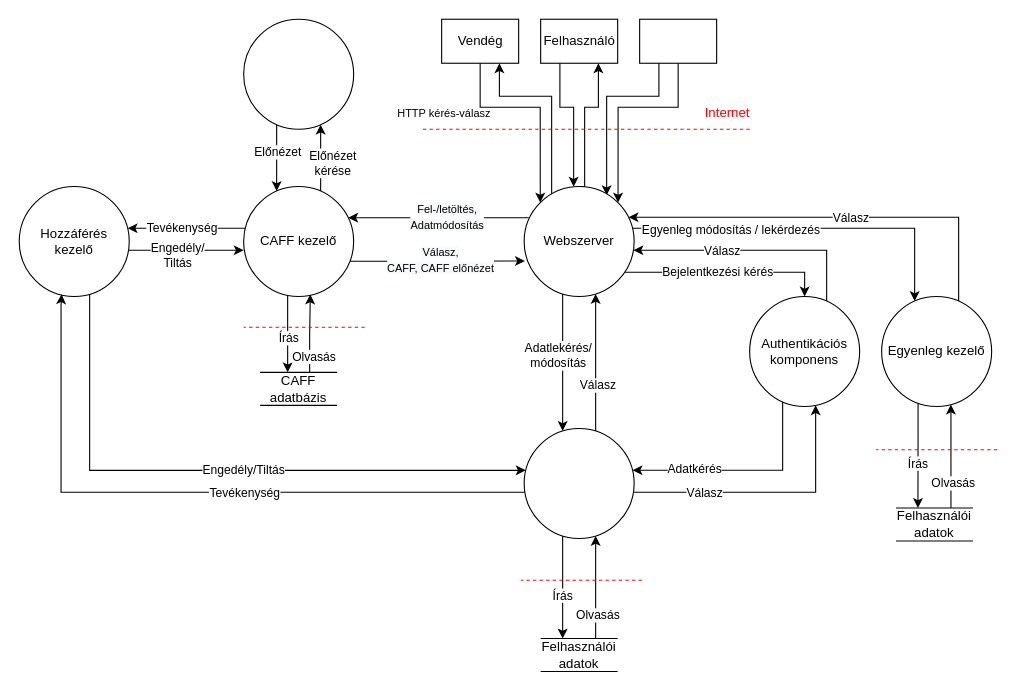
Some shapes in this 1018 by 692 pixel diagram are drawn without their labels. The centre of each missing label's shape, as x and y in pixels:
"Admin" goes at point (678, 40).
"Felhasználó kezelő" goes at point (578, 482).
"Parser" goes at point (298, 73).
